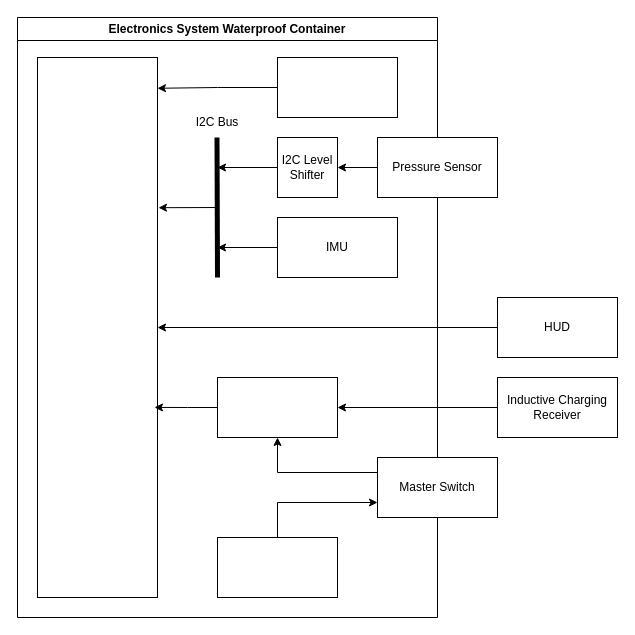
The diagram is 635 pixels wide and 635 high, and some of its shapes have lost their labels. The box of each missing label's shape, as (x1, y1, x2, y2) in pixels:
Arduino: (36, 56, 158, 598)
Battery: (216, 536, 338, 598)
BMS: (216, 376, 338, 438)
Reed Switche (x3): (276, 56, 398, 118)
